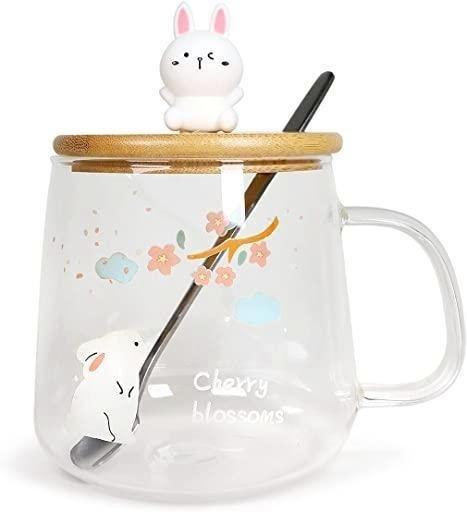glass-mug: (27, 123, 467, 509)
